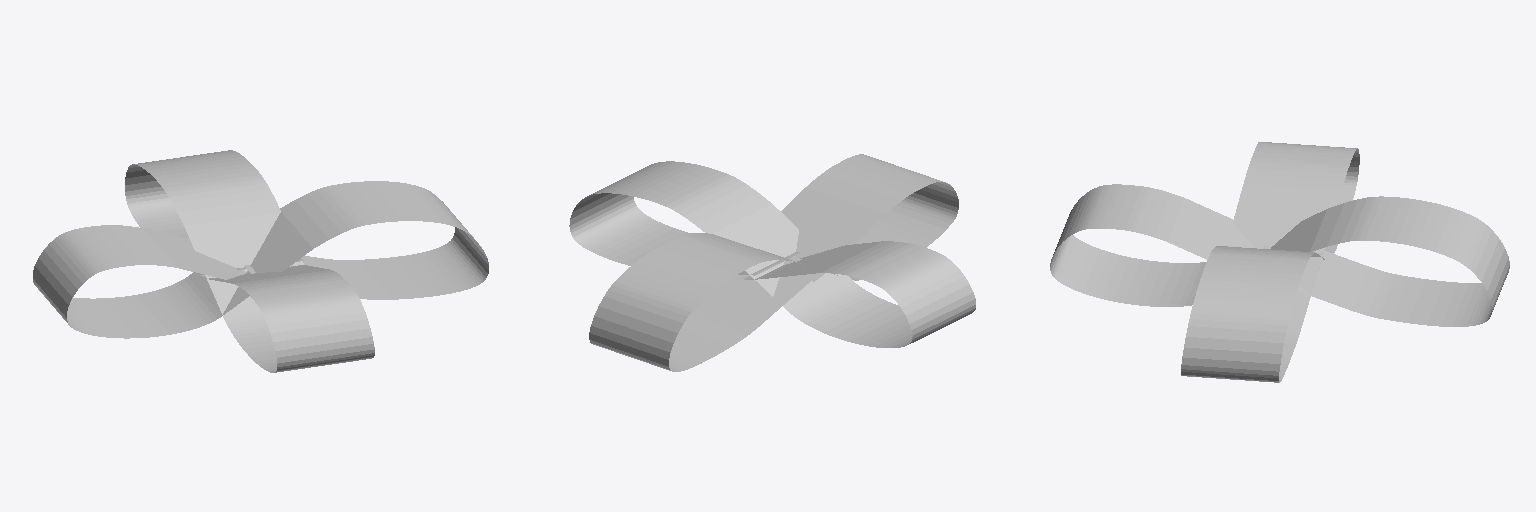
The model's file is ribbon3.obj.
3 views of the same model, side by side, from view 1: azimuth 30°, elevation 25°; view 2: azimuth 150°, elevation 25°; view 3: azimuth 270°, elevation 25° (orthographic).
Visible parts, largest first — view 1: Laço_2_Cube_1_Extrude_NURBS, Laço_1_Cube_1_Extrude_NURBS_1; view 2: Laço_1_Cube_1_Extrude_NURBS_1, Laço_2_Cube_1_Extrude_NURBS; view 3: Laço_1_Cube_1_Extrude_NURBS_1, Laço_2_Cube_1_Extrude_NURBS.
Part boxes in pixels (bbox=[...]): Laço_2_Cube_1_Extrude_NURBS: bbox=[33, 181, 488, 338]; Laço_1_Cube_1_Extrude_NURBS_1: bbox=[125, 150, 374, 372]; Laço_1_Cube_1_Extrude_NURBS_1: bbox=[589, 154, 958, 371]; Laço_2_Cube_1_Extrude_NURBS: bbox=[569, 161, 975, 347]; Laço_1_Cube_1_Extrude_NURBS_1: bbox=[1050, 184, 1509, 326]; Laço_2_Cube_1_Extrude_NURBS: bbox=[1181, 142, 1359, 382].
Size of the model in its own units: 1.34 by 0.2562 by 1.34.